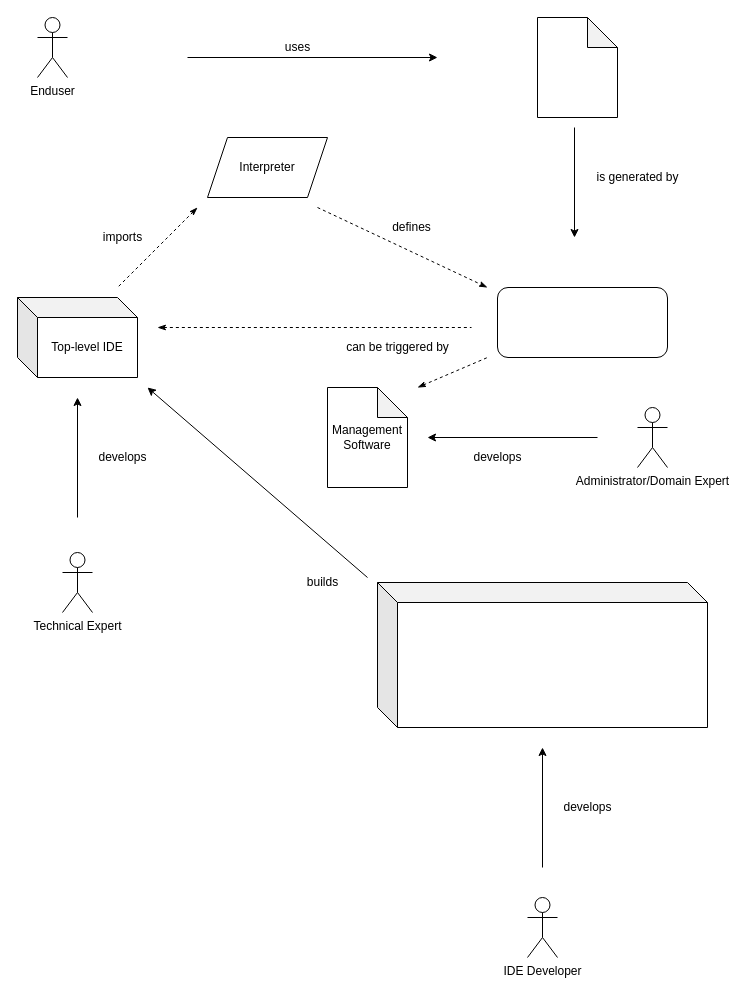
Some shapes in this 746 by 996 pixel diagram are drawn without their labels. The centre of each missing label's shape, as x and y in pixels:
Application generator: point 582,322
Final Application: point 577,67
IDE Foundation: point 542,655
